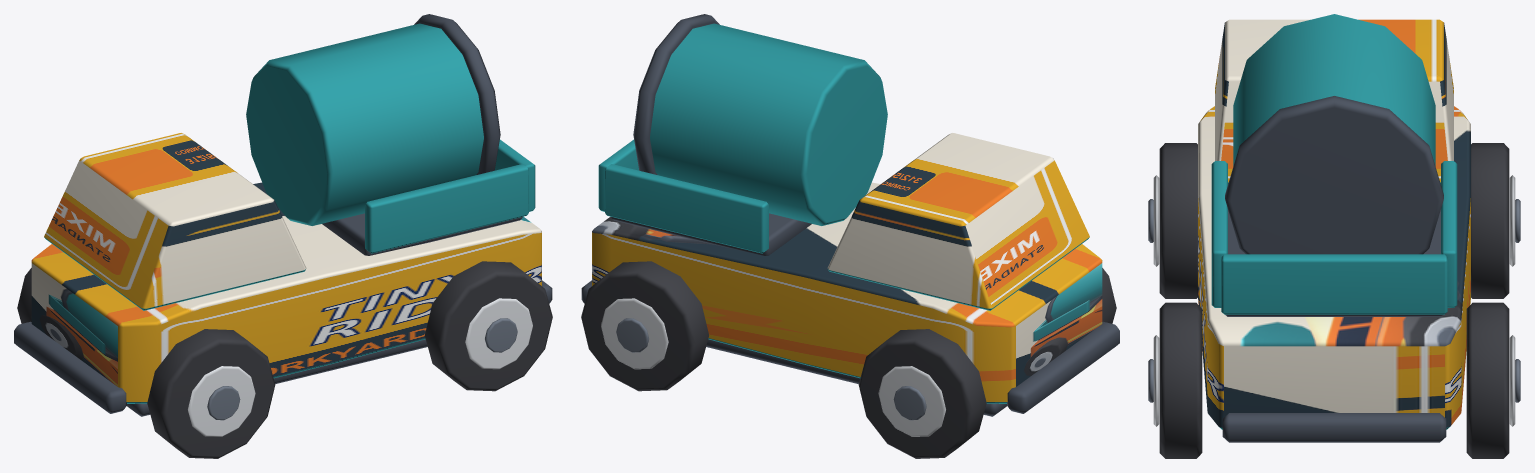
The picture shows the model from 3 angles, left to right: view 1: azimuth 30°, elevation 25°; view 2: azimuth 150°, elevation 25°; view 3: azimuth 270°, elevation 25°; orthographic projection. The views are drawn at different scales.
Visible parts, largest first — view 1: WY-02_connected_shell, large mixing drum, WY-02_cabin, Tire, Tire.002, cargo side, front bumper, rear drum collar, Rim.002, Rim, cargo floor, underbody (+4 smaller); view 2: WY-02_connected_shell, large mixing drum, WY-02_cabin, Tire.001, Tire.003, cargo side.001, front bumper, rear drum collar, Rim.003, Rim.001, cargo floor, underbody (+4 smaller); view 3: WY-02_connected_shell, rear drum collar, large mixing drum, cargo tail, WY-02_cabin, Tire.002, Tire.003, rear bumper, Tire, Tire.001, cargo side, cargo side.001 (+5 smaller).
Part boxes in pixels (x1,y1,x2,y2): WY-02_connected_shell: [31, 182, 541, 403]; large mixing drum: [246, 23, 483, 225]; WY-02_cabin: [44, 133, 306, 310]; Tire: [147, 329, 275, 458]; Tire.002: [425, 261, 552, 391]; cargo side: [365, 164, 528, 253]; front bumper: [14, 321, 126, 413]; rear drum collar: [414, 14, 500, 174]; Rim.002: [465, 298, 532, 369]; Rim: [188, 366, 255, 436]; cargo floor: [322, 213, 522, 255]; underbody: [127, 339, 427, 416]; WY-02_connected_shell: [592, 182, 1102, 403]; large mixing drum: [650, 23, 887, 225]; WY-02_cabin: [827, 133, 1089, 310]; Tire.001: [858, 329, 986, 458]; Tire.003: [581, 261, 708, 391]; cargo side.001: [605, 164, 768, 253]; front bumper: [1007, 321, 1119, 413]; rear drum collar: [633, 14, 719, 174]; Rim.003: [601, 298, 668, 369]; Rim.001: [878, 366, 945, 436]; cargo floor: [611, 213, 811, 255]; underbody: [706, 339, 1006, 416]; WY-02_connected_shell: [1198, 106, 1470, 429]; rear drum collar: [1225, 96, 1443, 254]; large mixing drum: [1233, 14, 1435, 165]; cargo tail: [1221, 254, 1447, 314]; WY-02_cabin: [1215, 19, 1453, 183]; Tire.002: [1159, 302, 1202, 458]; Tire.003: [1466, 302, 1509, 458]; rear bumper: [1222, 413, 1446, 442]; Tire: [1159, 143, 1197, 298]; Tire.001: [1471, 143, 1509, 298]; cargo side: [1211, 161, 1227, 307]; cargo side.001: [1441, 161, 1457, 307].
Bounding box in the file's own units: 374 × 249 × 228.
